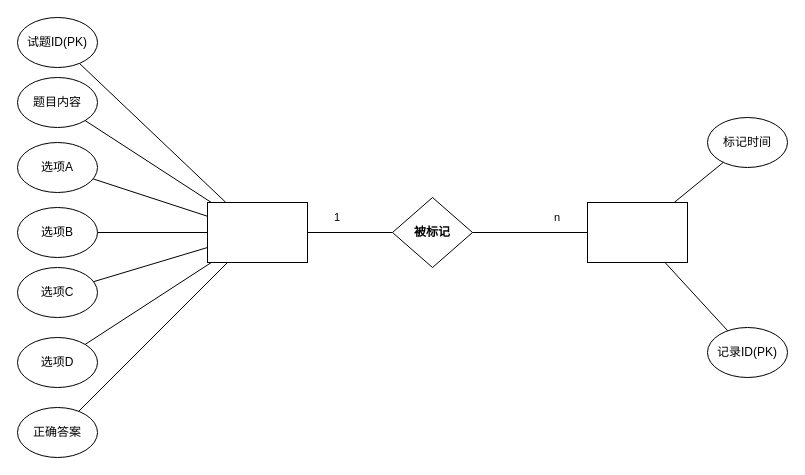
This 805x475 diagram has some shape labels left out. Here are the shapes that lost their labels. From the top down, the box of each, then its label:
(206, 202, 308, 262): 试题
(586, 202, 688, 262): 错题库
